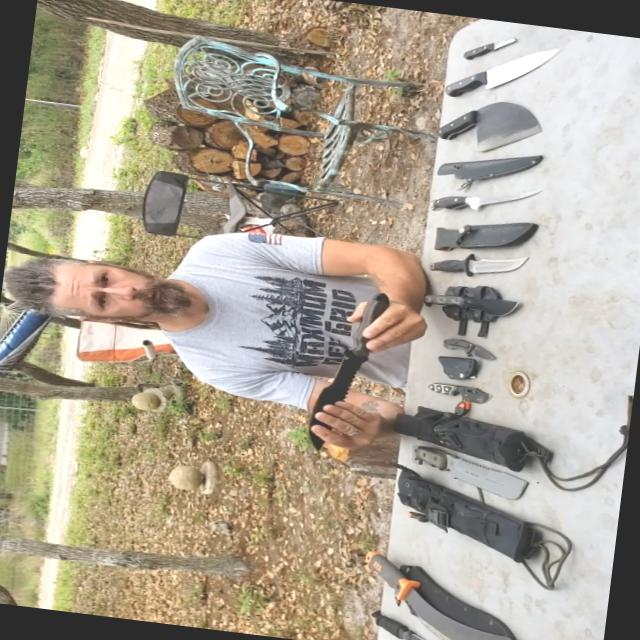knife: (332, 539, 559, 639), (294, 284, 394, 460), (422, 30, 563, 112), (418, 90, 548, 164), (404, 439, 540, 501), (416, 174, 542, 229), (414, 237, 533, 285), (404, 280, 530, 318), (448, 24, 534, 70), (347, 600, 436, 639), (422, 327, 504, 361), (417, 372, 495, 405)
